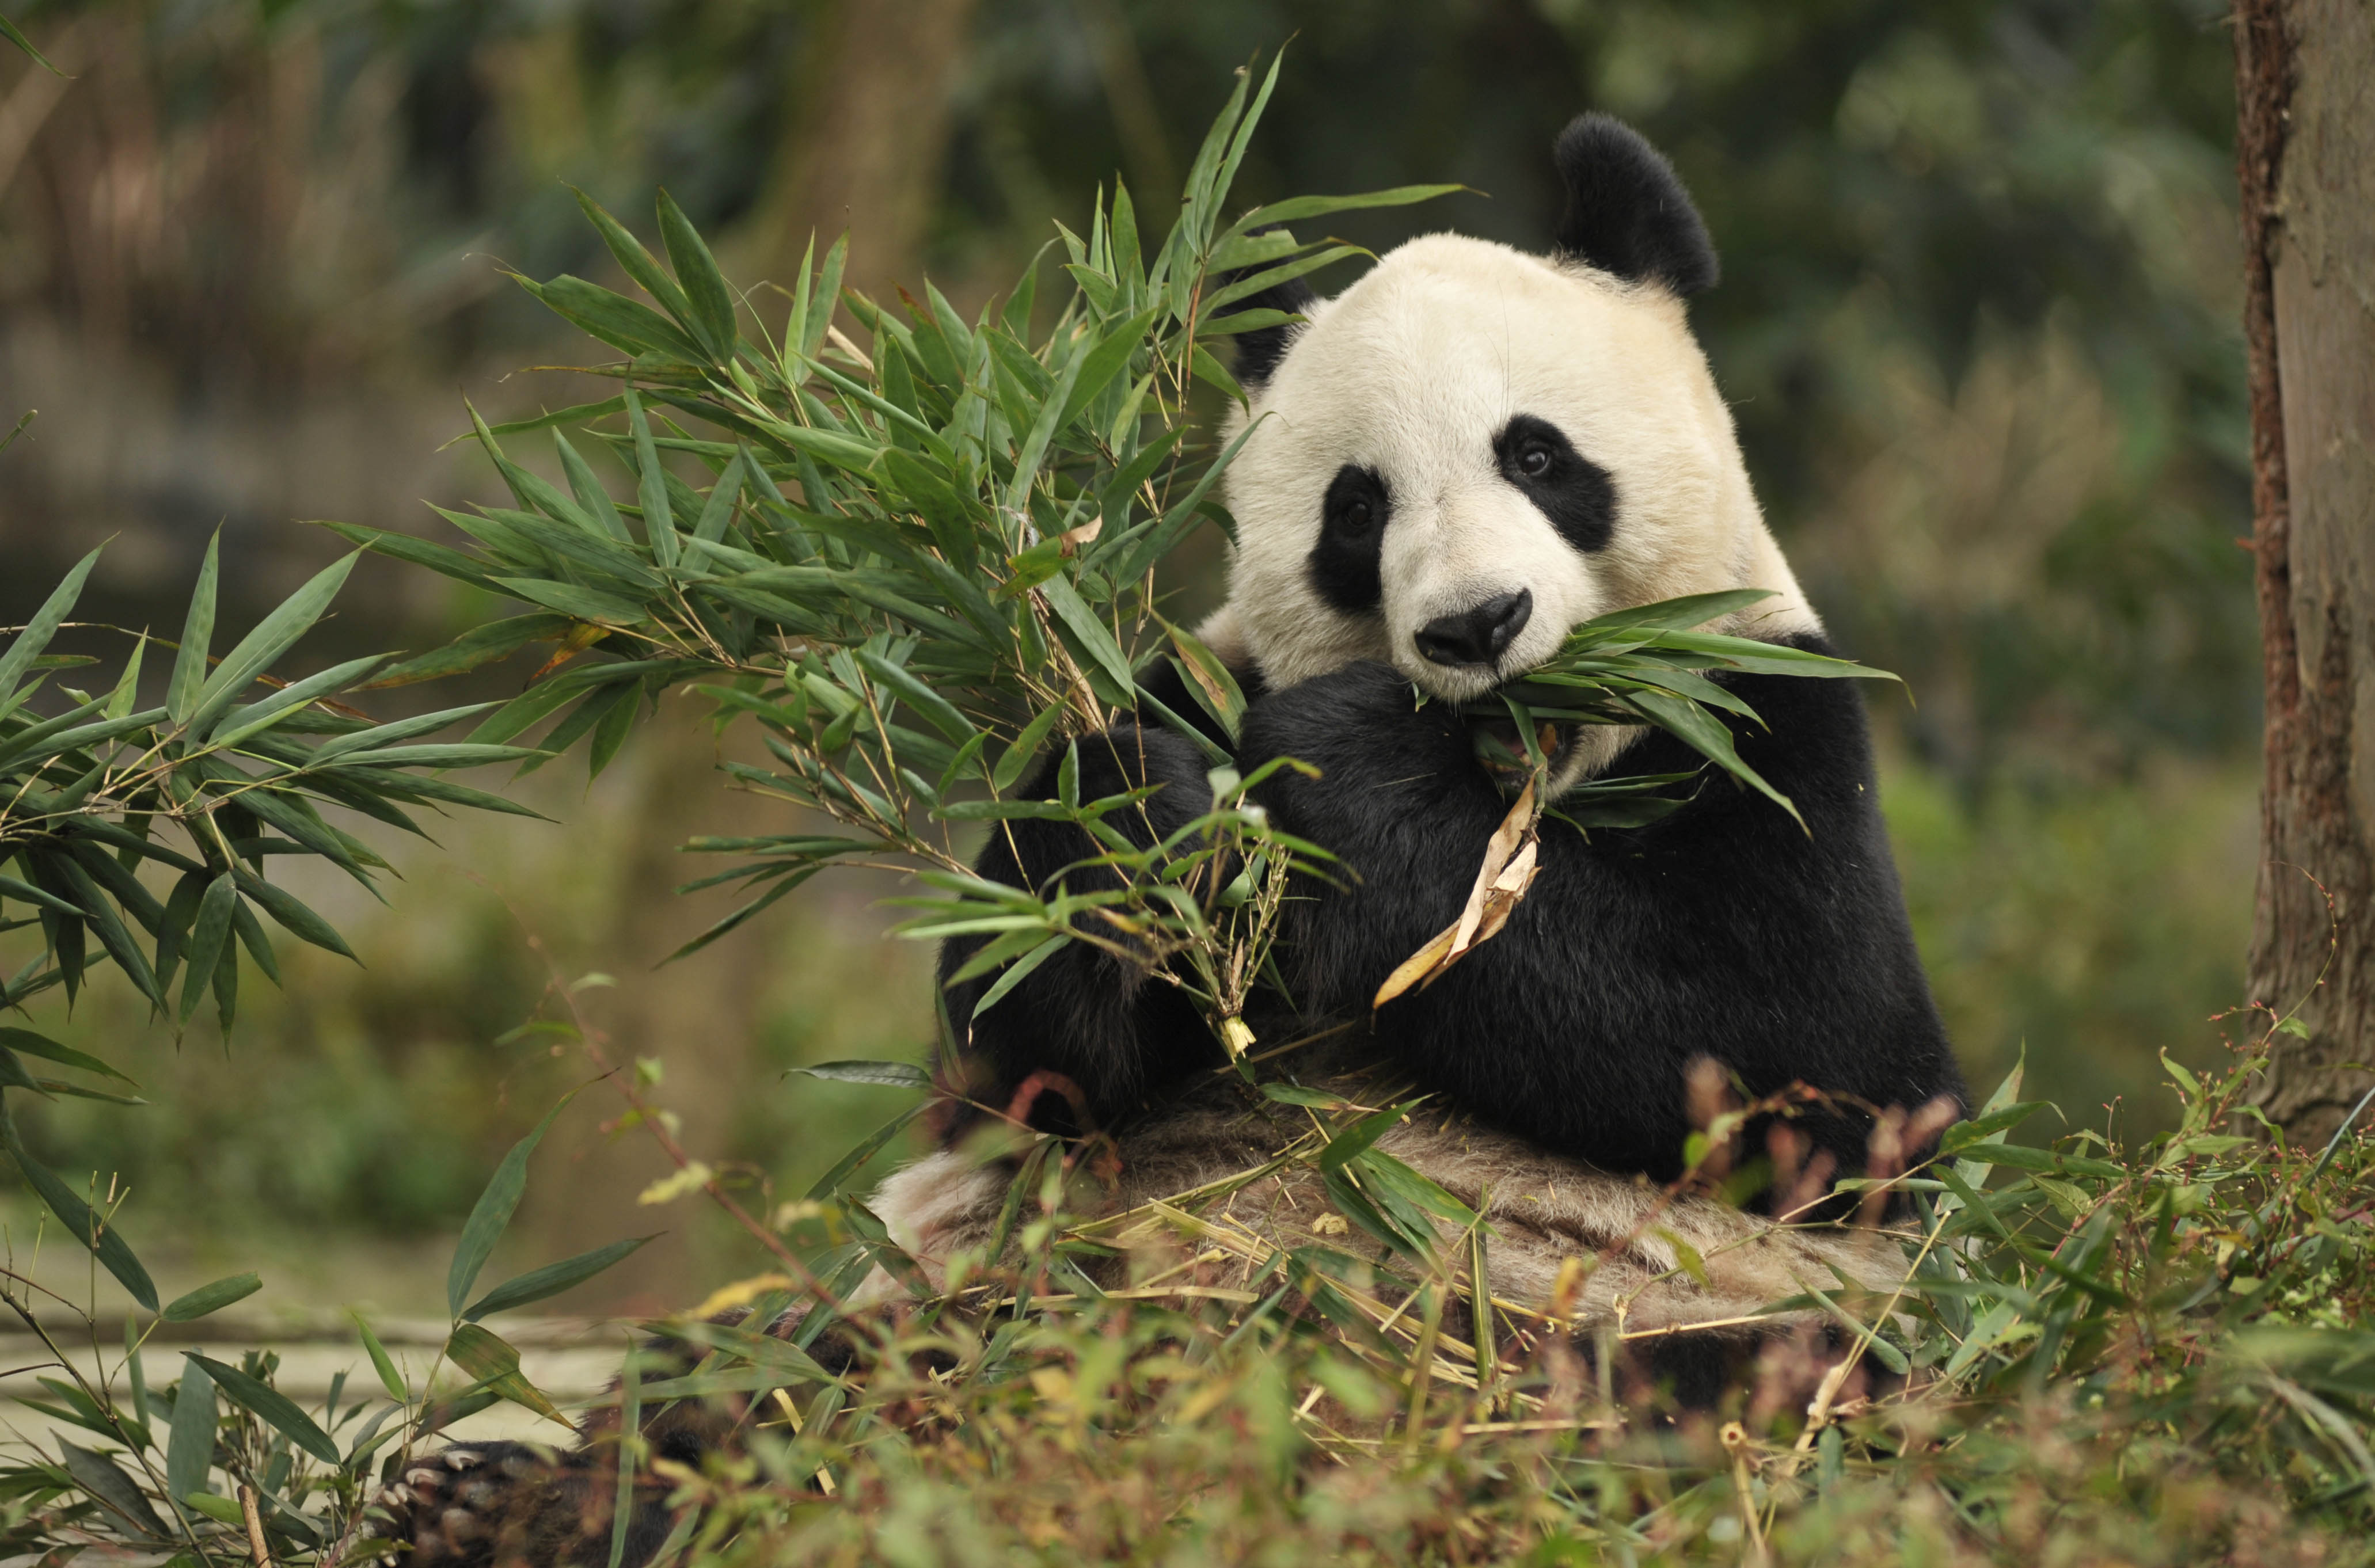panda: (915, 100, 2027, 1332)
